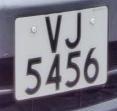4: (44, 52, 66, 96)
5: (20, 53, 47, 99), (63, 48, 84, 94)
6: (82, 45, 102, 85)
J: (63, 9, 85, 52)
V: (42, 12, 68, 55)
